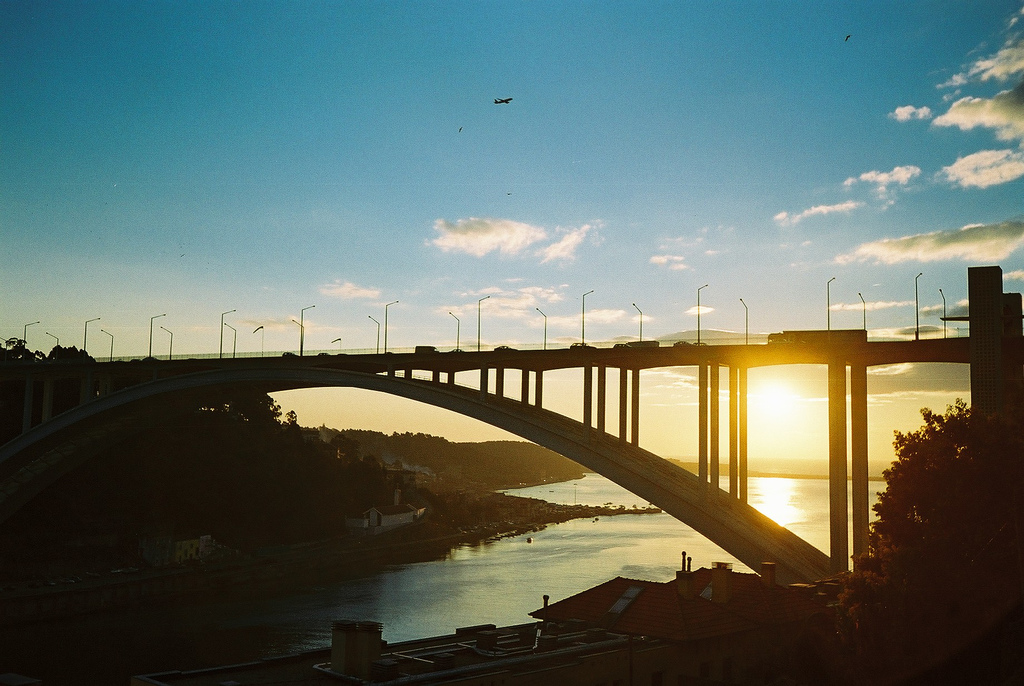arrabida: (0, 262, 1023, 586)
